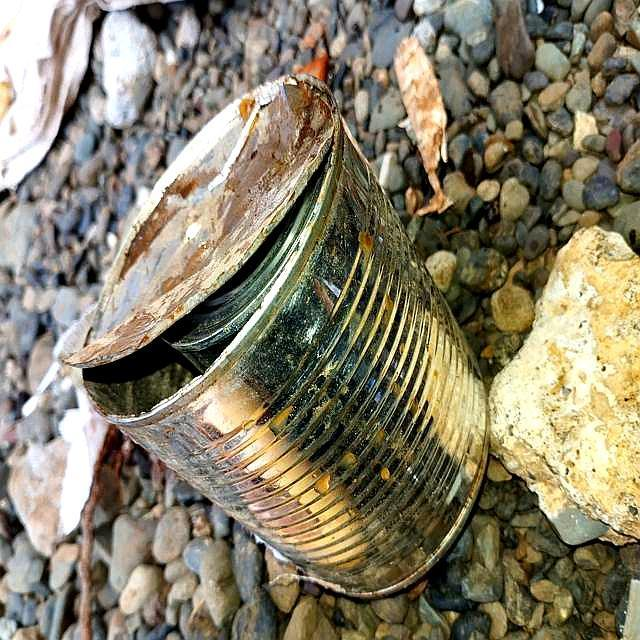Non-biodegradable: (58, 69, 493, 601)
